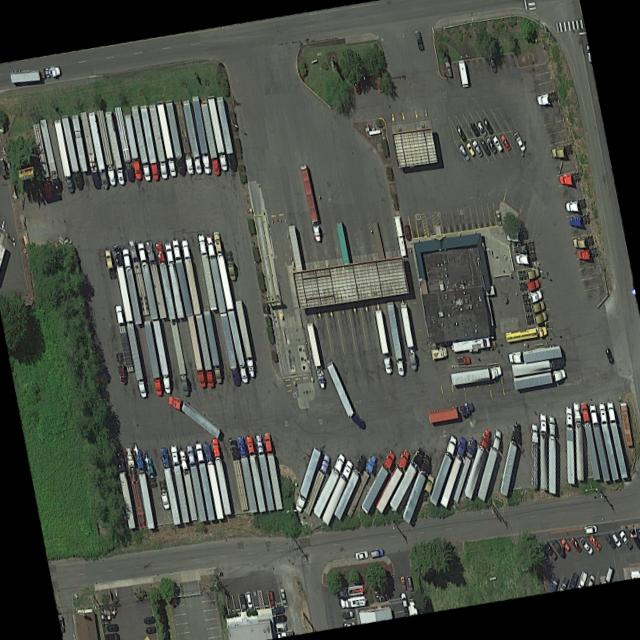large-vehicle: (324, 357, 365, 435), (373, 449, 409, 513), (167, 393, 218, 438), (332, 454, 365, 521), (388, 448, 423, 511), (311, 453, 344, 518), (343, 454, 376, 518), (320, 459, 352, 525), (360, 451, 394, 513), (427, 435, 456, 506), (401, 455, 431, 522), (438, 437, 466, 508), (463, 428, 489, 500), (449, 437, 477, 503), (126, 241, 149, 321), (476, 428, 501, 501), (131, 448, 153, 529), (294, 446, 320, 513), (144, 241, 166, 319), (604, 401, 626, 479), (78, 112, 100, 190), (298, 165, 320, 243), (37, 118, 59, 195), (587, 405, 609, 482), (302, 453, 329, 515), (123, 449, 144, 528), (60, 115, 82, 190), (86, 113, 108, 188), (205, 96, 227, 171), (113, 453, 134, 530), (158, 448, 179, 525), (135, 243, 156, 320), (170, 239, 191, 316), (596, 403, 617, 480), (244, 436, 265, 513), (233, 301, 254, 377), (184, 446, 205, 522), (153, 243, 174, 319), (162, 243, 183, 319), (204, 237, 225, 313), (235, 437, 256, 513), (155, 102, 176, 178), (218, 314, 240, 386), (498, 421, 519, 496), (212, 232, 232, 310), (226, 311, 247, 385), (124, 324, 145, 398), (193, 444, 213, 521), (202, 443, 222, 520), (111, 245, 131, 322), (120, 248, 140, 325), (579, 404, 599, 481), (190, 96, 210, 173), (103, 112, 124, 185), (253, 434, 273, 510), (129, 106, 149, 182), (113, 106, 133, 182), (52, 121, 73, 193), (201, 309, 221, 384), (142, 321, 162, 396), (31, 123, 51, 198), (210, 440, 230, 515), (138, 105, 158, 180), (168, 322, 188, 396), (95, 111, 115, 185), (173, 100, 193, 174), (199, 101, 219, 175), (181, 100, 201, 174), (196, 234, 215, 311), (168, 447, 187, 523), (262, 434, 281, 510), (193, 315, 213, 387), (227, 438, 247, 510), (214, 97, 234, 169), (180, 240, 199, 315), (164, 100, 183, 175), (185, 317, 205, 388), (151, 320, 170, 393), (177, 449, 196, 521), (148, 105, 166, 180), (385, 301, 403, 375), (113, 305, 132, 373), (305, 323, 324, 389), (398, 303, 416, 371), (372, 310, 391, 374), (511, 369, 565, 391), (123, 115, 141, 179), (448, 366, 501, 386), (426, 403, 474, 425), (509, 359, 564, 376), (507, 347, 560, 363), (8, 67, 59, 83), (563, 406, 573, 485), (572, 404, 582, 481), (537, 414, 547, 490), (504, 326, 547, 343), (546, 416, 554, 495), (530, 424, 537, 488), (336, 585, 363, 599), (338, 597, 365, 610)
small-vehicle: (550, 538, 566, 561), (577, 535, 593, 557), (617, 529, 633, 551), (627, 527, 640, 551), (511, 130, 525, 152), (567, 535, 582, 555), (469, 138, 483, 159), (587, 533, 601, 553), (456, 143, 470, 163), (483, 136, 497, 156), (398, 591, 409, 616), (477, 138, 491, 157), (412, 29, 424, 51), (453, 124, 466, 144), (474, 119, 487, 139), (498, 133, 511, 153), (603, 532, 616, 551), (467, 120, 480, 139), (480, 117, 493, 136), (603, 345, 614, 366), (566, 571, 578, 590), (575, 569, 587, 588), (490, 134, 502, 153), (602, 565, 613, 584), (463, 141, 475, 158), (368, 547, 384, 559), (558, 537, 570, 553), (548, 575, 559, 592), (609, 531, 620, 548), (352, 549, 368, 560), (581, 524, 597, 535), (557, 575, 568, 591), (243, 590, 252, 609), (272, 613, 287, 624), (404, 574, 413, 592), (237, 593, 246, 611), (402, 224, 411, 242), (340, 609, 354, 620), (273, 622, 287, 633), (488, 57, 497, 74), (443, 61, 452, 78), (398, 575, 406, 593), (278, 587, 286, 605), (103, 631, 119, 640), (270, 605, 284, 615), (584, 44, 591, 64), (142, 615, 156, 625), (267, 590, 275, 607), (105, 623, 119, 632), (586, 573, 595, 586), (143, 625, 156, 634), (342, 621, 354, 627), (636, 529, 640, 539)
